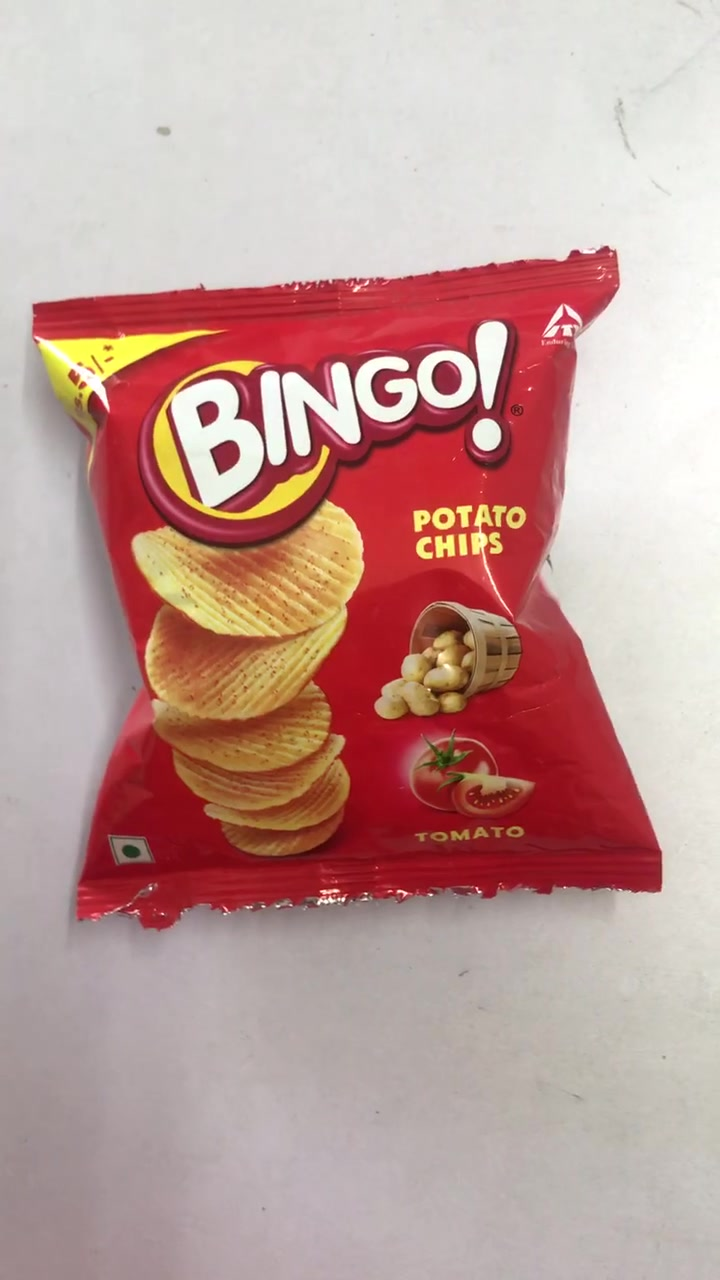Bingo: (38, 306, 655, 895)
